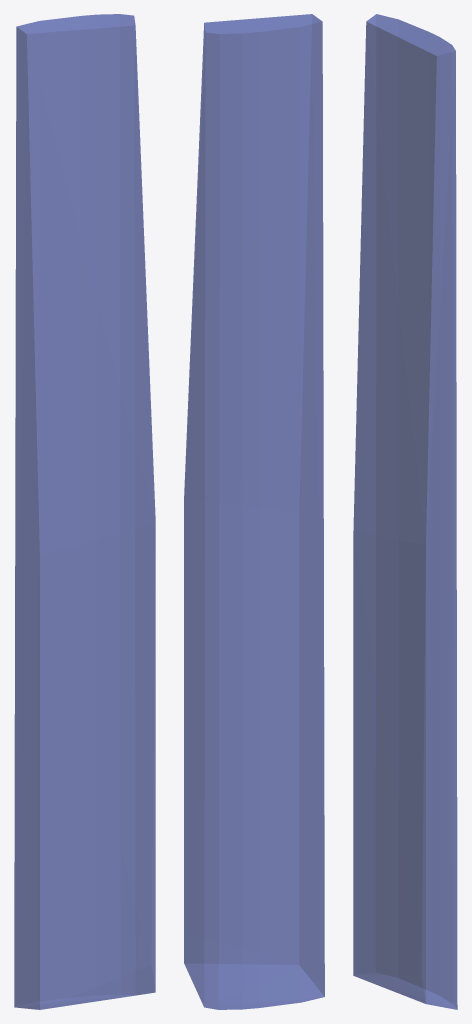
3 views of the same model, side by side, from view 1: azimuth 30°, elevation 25°; view 2: azimuth 210°, elevation 25°; view 3: azimuth 330°, elevation 25° (orthographic). The views are drawn at different scales.
Parts seen in each view (by area): view 1: Shape_IndexedFaceSet.049_Shape_IndexedFaceSet.10452; view 2: Shape_IndexedFaceSet.049_Shape_IndexedFaceSet.10452; view 3: Shape_IndexedFaceSet.049_Shape_IndexedFaceSet.10452.
Part boxes in pixels (bbox=[...]): Shape_IndexedFaceSet.049_Shape_IndexedFaceSet.10452: bbox=[14, 14, 155, 1009]; Shape_IndexedFaceSet.049_Shape_IndexedFaceSet.10452: bbox=[184, 14, 324, 1009]; Shape_IndexedFaceSet.049_Shape_IndexedFaceSet.10452: bbox=[353, 14, 457, 1009].
Size of the model in its own units: 0.1155 by 1.06 by 0.0879.
